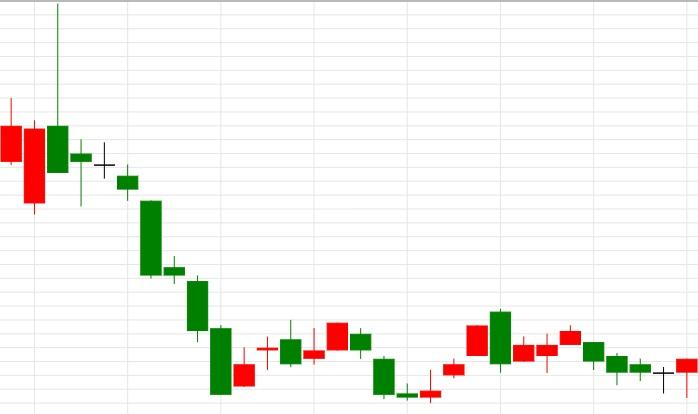bearish_engulfing_fall: (396, 309, 511, 403)
